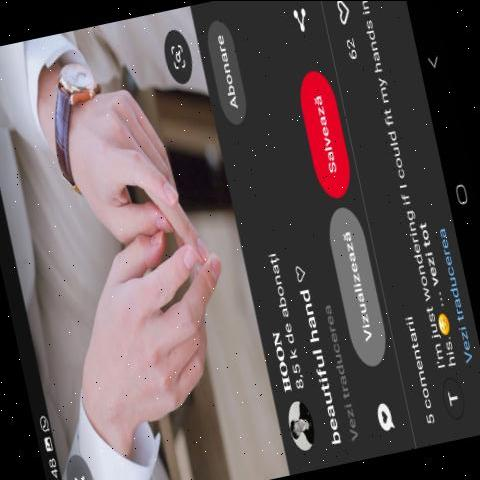Hands: (78, 234, 234, 452), (75, 61, 200, 242)
